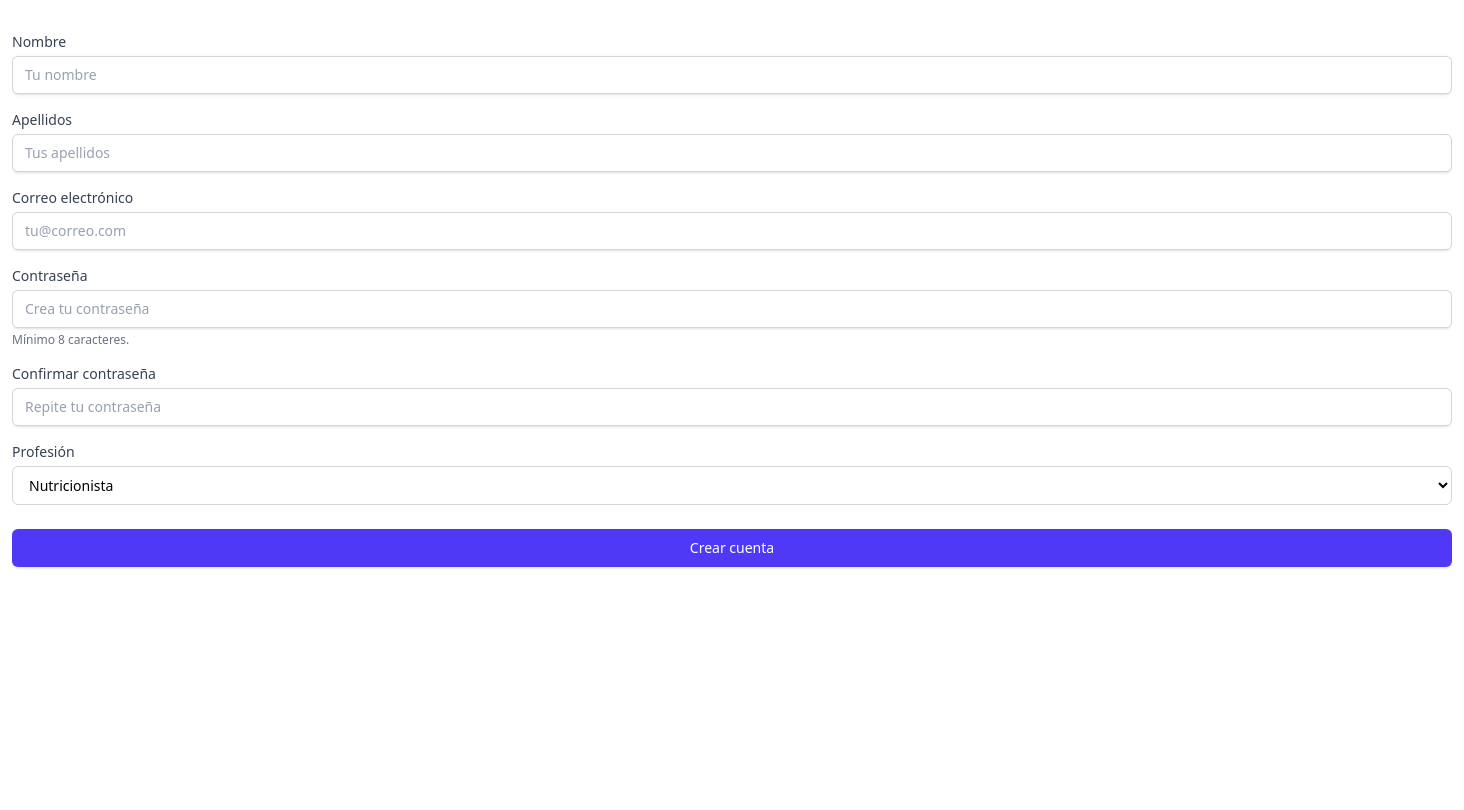
RegisterForm component › shows validation errors from Zod when submitting with empty or invalid fields
Select "Nutricionista" in the dropdown labelled "Profesión" at (732, 486), box [12,466,1452,505]
Select "Selecciona tu profesión" in the dropdown labelled "Profesión" at (732, 486), box [12,466,1452,505]
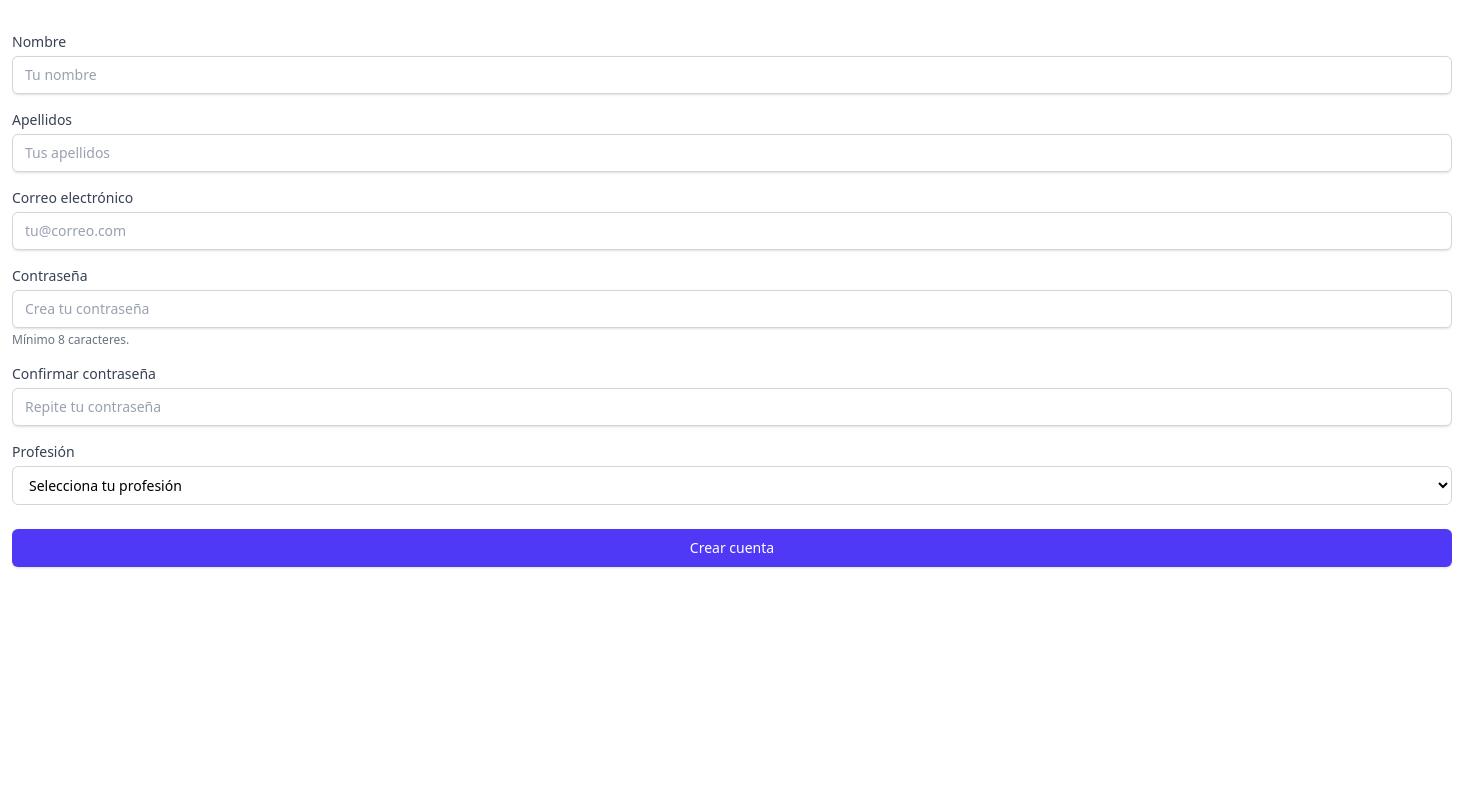
Click the button "Crear cuenta".
click(732, 548)  # box [12,529,1452,567]
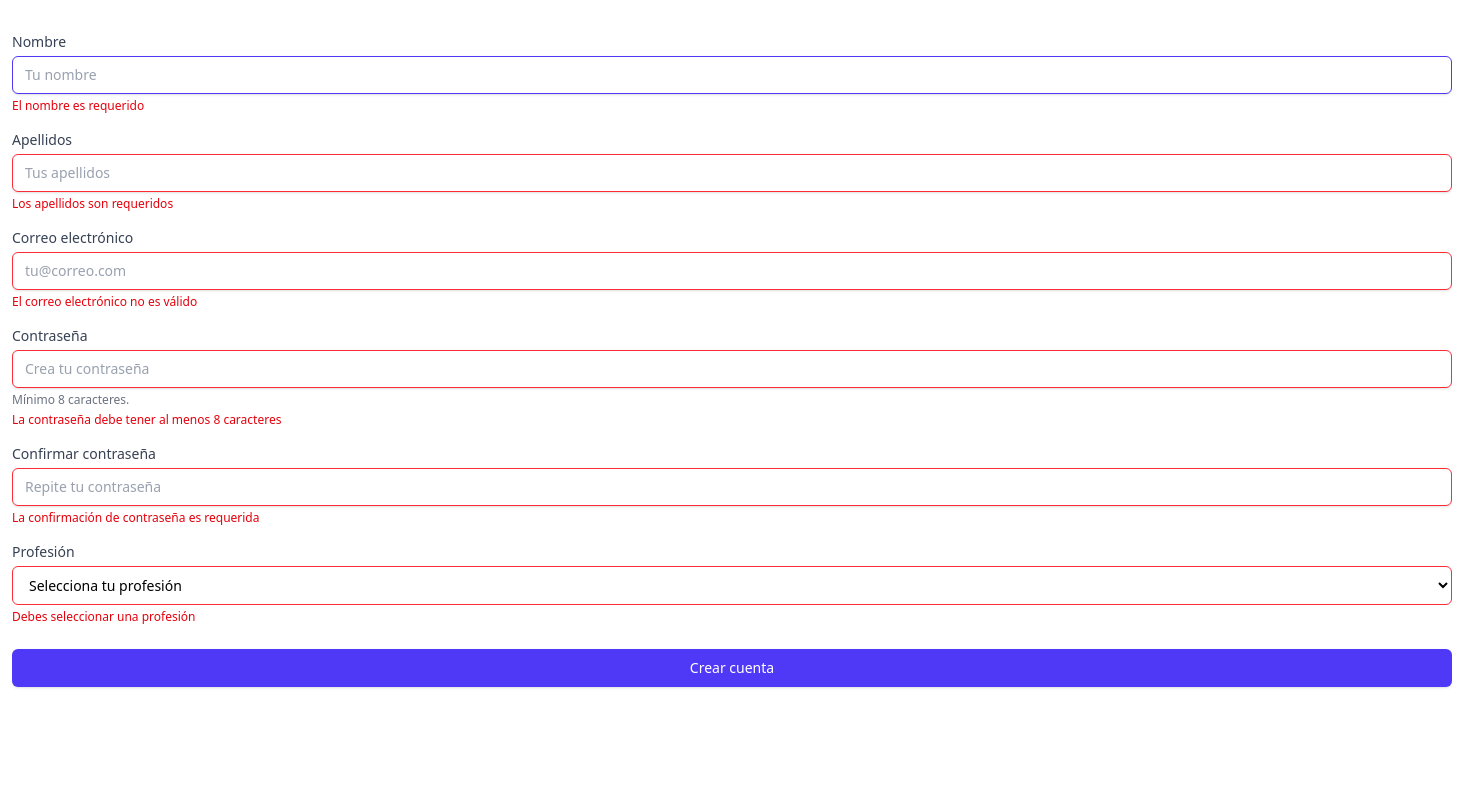
Expected: the text "El nombre es requerido" is shown, [12,97,144,114]
Expected: the text "Los apellidos son requeridos" is shown, [12,195,173,212]
Expected: the text "El correo electrónico no es válido" is shown, [12,293,197,310]
